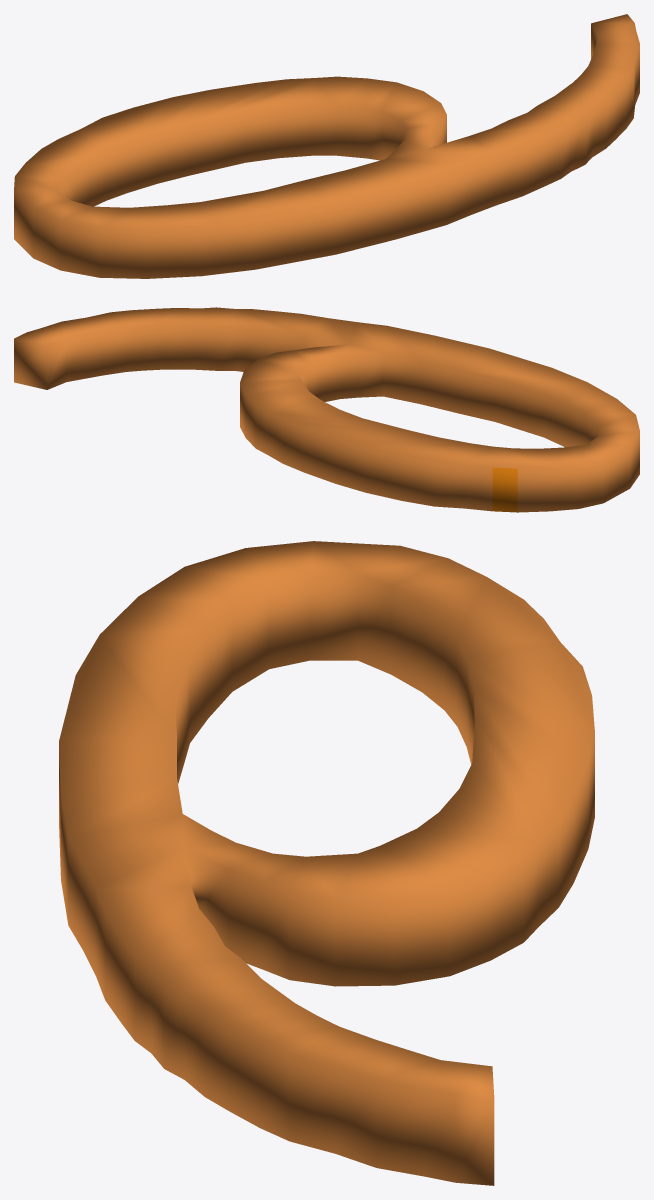
3 renders of one model, top to bottom at view 1: azimuth 30°, elevation 25°; view 2: azimuth 150°, elevation 25°; view 3: azimuth 270°, elevation 25°, orthographic. The views are drawn at different scales.
Parts seen in each view (by area): view 1: _; view 2: _; view 3: _.
Part boxes in pixels (bbox=[...]): _: bbox=[14, 14, 639, 278]; _: bbox=[14, 307, 639, 512]; _: bbox=[59, 541, 594, 1185].
Size of the model in its own units: 2.73 by 1.11 by 0.2.
